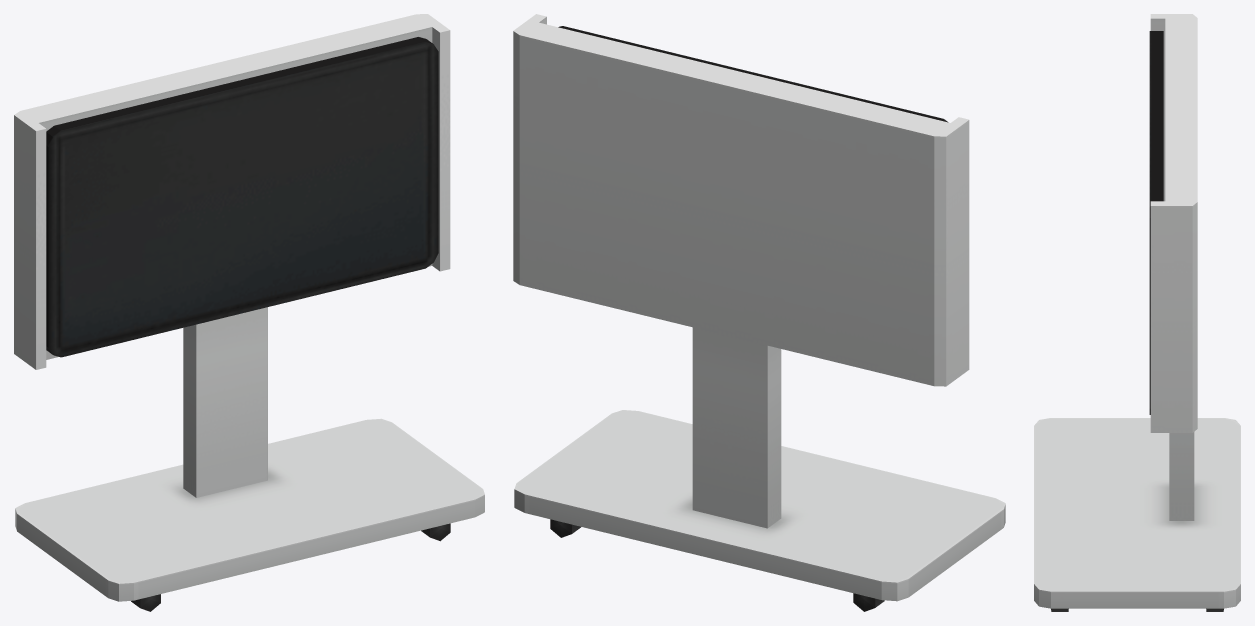
Rendered from 移动电视.obj.
The picture shows the model from 3 angles, left to right: view 1: azimuth 30°, elevation 25°; view 2: azimuth 150°, elevation 25°; view 3: azimuth 270°, elevation 25°; orthographic projection. The views are drawn at different scales.
Size of the model in its own units: 155 by 163 by 70.49.
